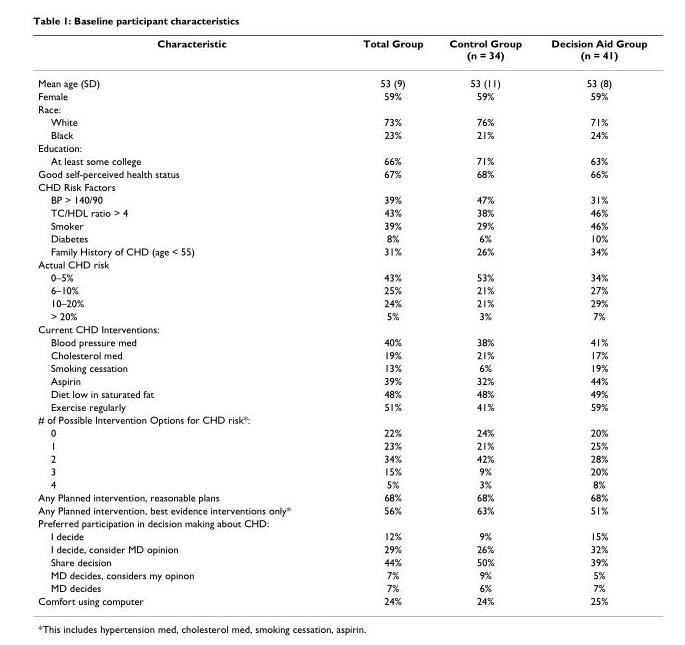table: (37, 36, 646, 606)
table column: (37, 36, 325, 606), (535, 36, 646, 606), (325, 36, 435, 606), (435, 36, 535, 606)
table column header: (37, 36, 646, 68)
table projected row header: (37, 102, 646, 115), (37, 179, 646, 192), (37, 257, 646, 270), (37, 322, 646, 335), (37, 412, 646, 425), (37, 516, 646, 529), (37, 141, 646, 153)
table row: (37, 36, 646, 68), (37, 68, 646, 89), (37, 89, 646, 102), (37, 102, 646, 115), (37, 115, 646, 128), (37, 128, 646, 141), (37, 153, 646, 166), (37, 166, 646, 179), (37, 179, 646, 192), (37, 192, 646, 205), (37, 205, 646, 218), (37, 218, 646, 231), (37, 231, 646, 244), (37, 244, 646, 257), (37, 257, 646, 270), (37, 270, 646, 283), (37, 283, 646, 296), (37, 296, 646, 309), (37, 309, 646, 322), (37, 322, 646, 335), (37, 335, 646, 348), (37, 348, 646, 361), (37, 373, 646, 386), (37, 386, 646, 399), (37, 399, 646, 412), (37, 412, 646, 425), (37, 425, 646, 438), (37, 438, 646, 451), (37, 451, 646, 464), (37, 464, 646, 477), (37, 477, 646, 490), (37, 490, 646, 503), (37, 503, 646, 516), (37, 516, 646, 529), (37, 529, 646, 542), (37, 542, 646, 555), (37, 555, 646, 568), (37, 568, 646, 581), (37, 581, 646, 594), (37, 141, 646, 153), (37, 361, 646, 373), (37, 594, 646, 606)
